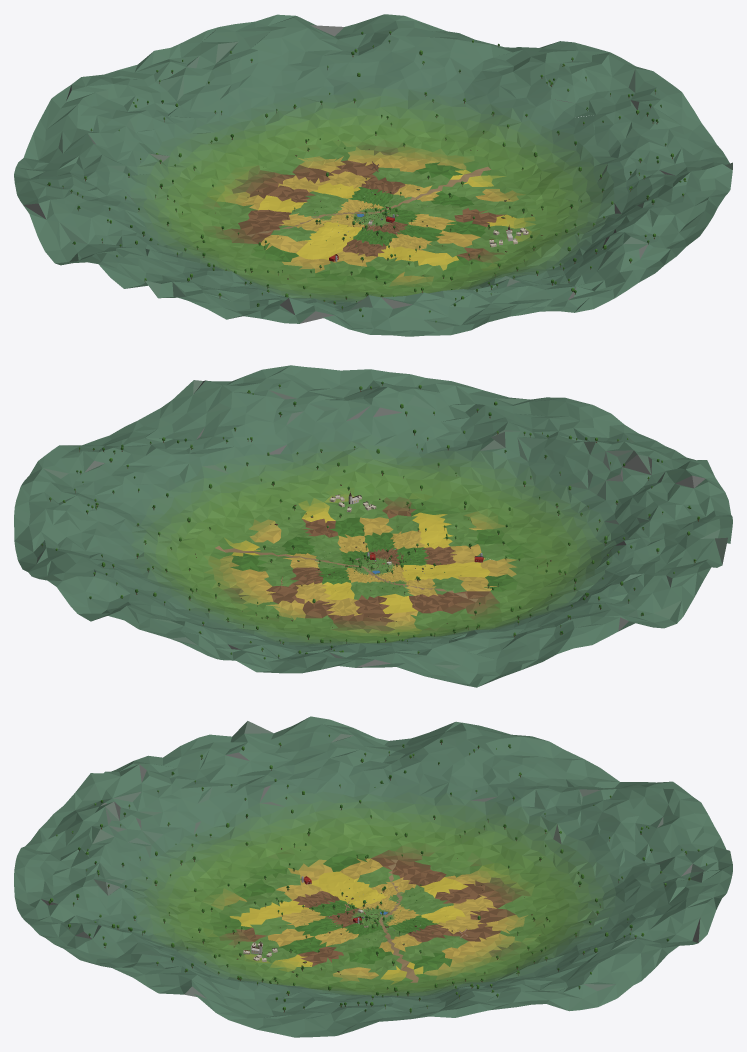
File: world_farm.glb
3 renders of one model, top to bottom at view 1: azimuth 30°, elevation 25°; view 2: azimuth 150°, elevation 25°; view 3: azimuth 270°, elevation 25°, orthographic.
Visible parts, largest first — view 1: Sector5, Sector4, Sector6, Sector3, Sector7, Sector2, Sector0, Sector1; view 2: Sector2, Sector3, Sector1, Sector4, Sector0, Sector7, Sector5, Sector6; view 3: Sector0, Sector7, Sector6, Sector1, Sector5, Sector2, Sector3, Sector4.
Boxes of the visible parts, x1,y1,x2,y2 form: Sector5: (180, 14, 466, 216); Sector4: (373, 33, 682, 216); Sector6: (26, 42, 372, 216); Sector3: (374, 92, 732, 232); Sector7: (14, 143, 372, 265); Sector2: (374, 200, 717, 312); Sector0: (63, 217, 373, 323); Sector1: (280, 217, 545, 336); Sector2: (281, 365, 564, 565); Sector3: (62, 365, 372, 565); Sector1: (374, 397, 719, 565); Sector4: (14, 445, 371, 583); Sector0: (374, 478, 732, 616); Sector7: (373, 566, 683, 687); Sector5: (28, 553, 370, 655); Sector6: (199, 566, 468, 685); Sector0: (116, 716, 376, 916); Sector7: (360, 721, 627, 916); Sector6: (374, 781, 732, 917); Sector1: (14, 764, 372, 918); Sector5: (374, 865, 732, 985); Sector2: (14, 871, 373, 969); Sector3: (112, 915, 383, 1037); Sector4: (359, 917, 632, 1023).
Bounding box in the file's own units: 1200 × 109 × 1199.
